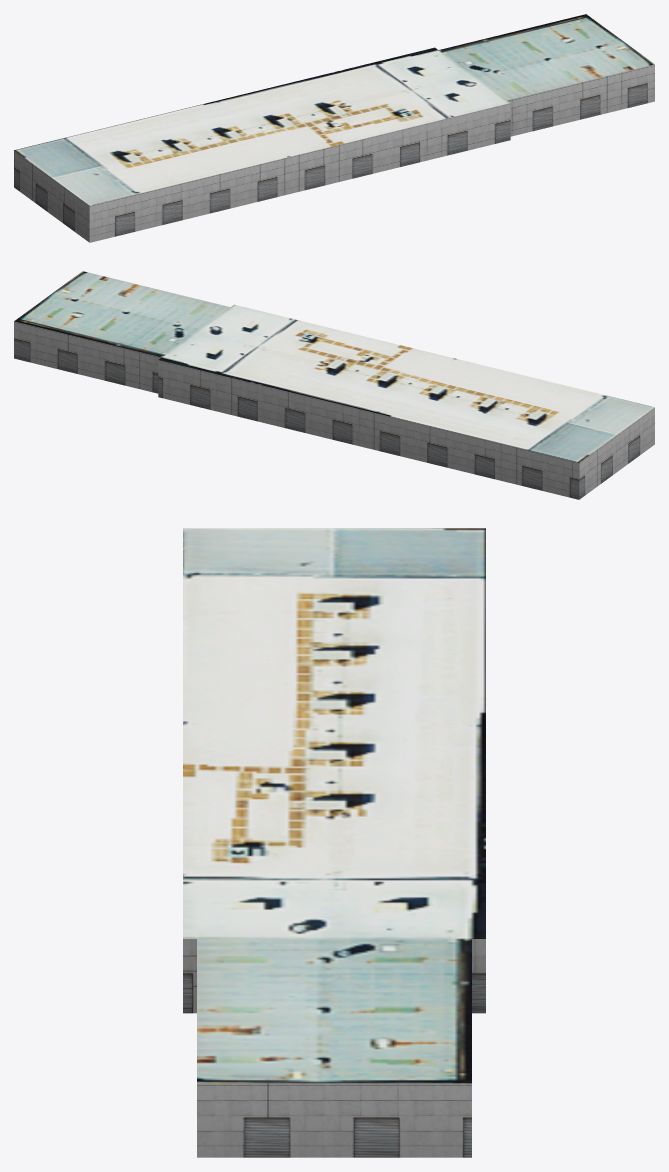
File: Building12.gltf
3 views of the same model, one above another, from view 1: azimuth 30°, elevation 25°; view 2: azimuth 150°, elevation 25°; view 3: azimuth 270°, elevation 25° (orthographic). The views are drawn at different scales.
Parts seen in each view (by area): view 1: Building12; view 2: Building12; view 3: Building12.
Part boxes in pixels (bbox=[...]): Building12: bbox=[14, 14, 654, 242]; Building12: bbox=[14, 271, 654, 499]; Building12: bbox=[183, 528, 485, 1157].
Bounding box in the file's own units: 80.02 × 5 × 18.47.
1 material, 1 textured.
